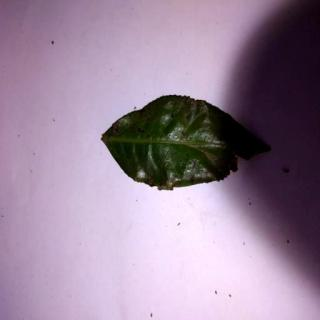Bird Eye Spot: (102, 94, 270, 191)
